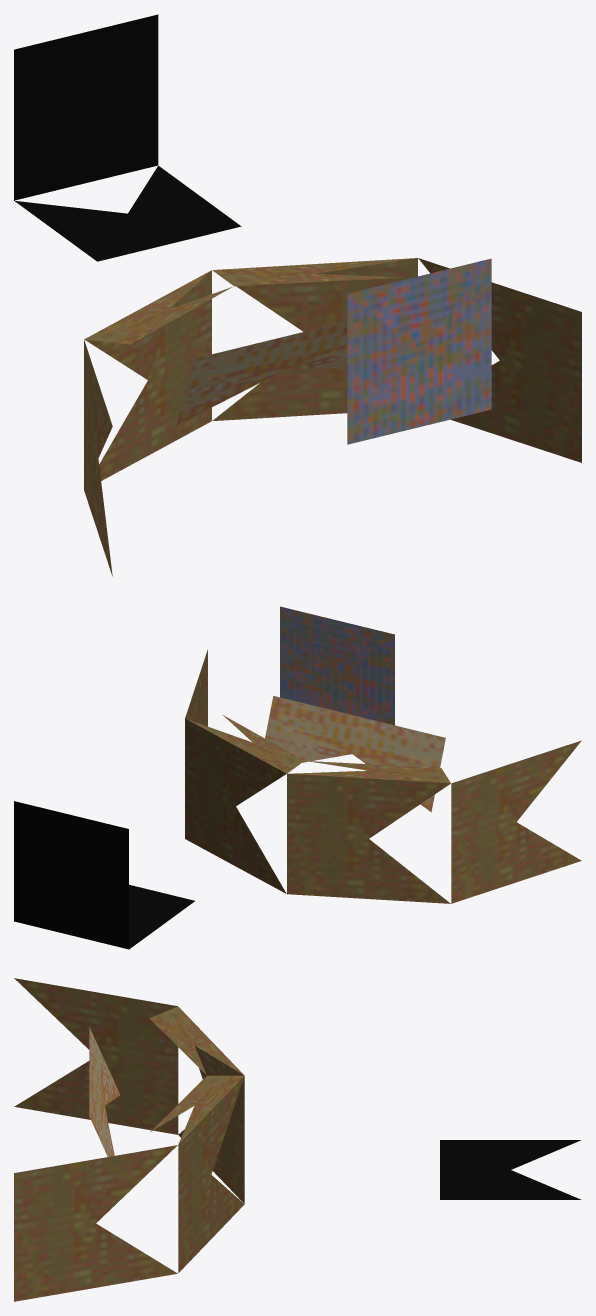
Rendered from town_geometry_type_29.obj.
3 renders of one model, top to bottom at view 1: azimuth 30°, elevation 25°; view 2: azimuth 150°, elevation 25°; view 3: azimuth 270°, elevation 25°, orthographic. The views are drawn at different scales.
Parts seen in each view (by area): view 1: face_list_052, face_list_041, face_list_000, face_list_047, face_list_011, face_list_004, face_list_053, face_list_018; view 2: face_list_052, face_list_041, face_list_053, face_list_047, face_list_000, face_list_018, face_list_011, face_list_004; view 3: face_list_052, face_list_004, face_list_053.
Part boxes in pixels (bbox=[...]): face_list_052: bbox=[84, 258, 581, 576]; face_list_041: bbox=[14, 14, 158, 200]; face_list_000: bbox=[347, 259, 491, 444]; face_list_047: bbox=[14, 15, 157, 200]; face_list_011: bbox=[347, 258, 490, 444]; face_list_004: bbox=[14, 165, 241, 261]; face_list_053: bbox=[177, 321, 347, 424]; face_list_018: bbox=[349, 259, 491, 408]; face_list_052: bbox=[185, 649, 581, 903]; face_list_041: bbox=[14, 801, 128, 949]; face_list_053: bbox=[265, 696, 445, 812]; face_list_047: bbox=[15, 801, 128, 948]; face_list_000: bbox=[280, 607, 394, 725]; face_list_018: bbox=[280, 607, 393, 703]; face_list_011: bbox=[280, 606, 394, 724]; face_list_004: bbox=[129, 884, 194, 949]; face_list_052: bbox=[14, 978, 244, 1301]; face_list_004: bbox=[440, 1140, 581, 1199]; face_list_053: bbox=[89, 1027, 120, 1156].
Bounding box in the file's own units: 208 × 96 × 256.
Materials: 15 (15 with a texture image).
